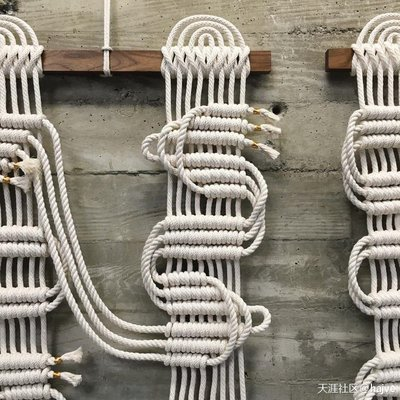9/可回收垃圾/绳子: (1, 13, 283, 400), (339, 12, 400, 400)
